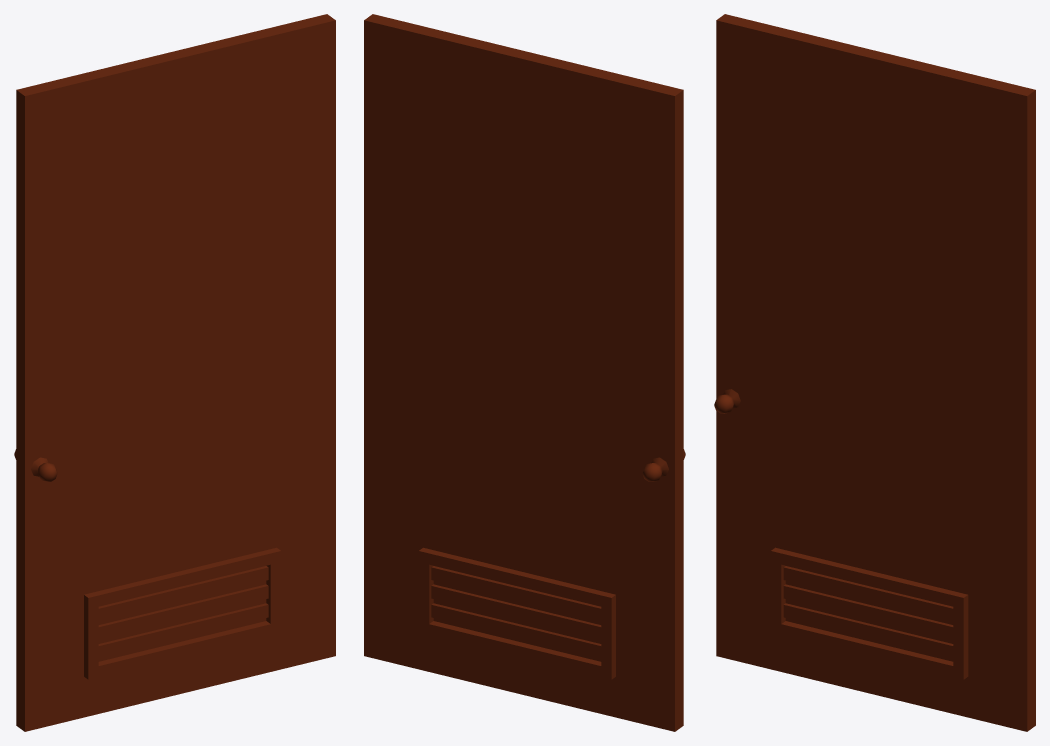
Rendered from door_bath.fbx.
3 renders of one model, left to right at view 1: azimuth 30°, elevation 25°; view 2: azimuth 150°, elevation 25°; view 3: azimuth 330°, elevation 25°, orthographic.
Visible parts, largest first — view 1: door_bath; view 2: door_bath; view 3: door_bath.
Part boxes in pixels (x1,y1,x2,y2): door_bath: [14, 14, 335, 731]; door_bath: [364, 14, 685, 731]; door_bath: [714, 14, 1035, 731].
Size of the model in its own units: 87.85 by 172 by 16.52.
